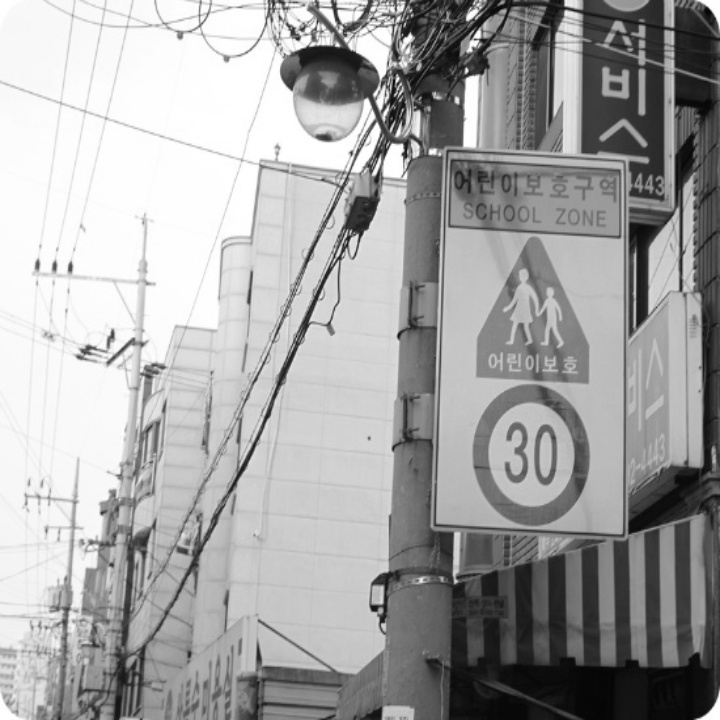child: (497, 253, 571, 347)
